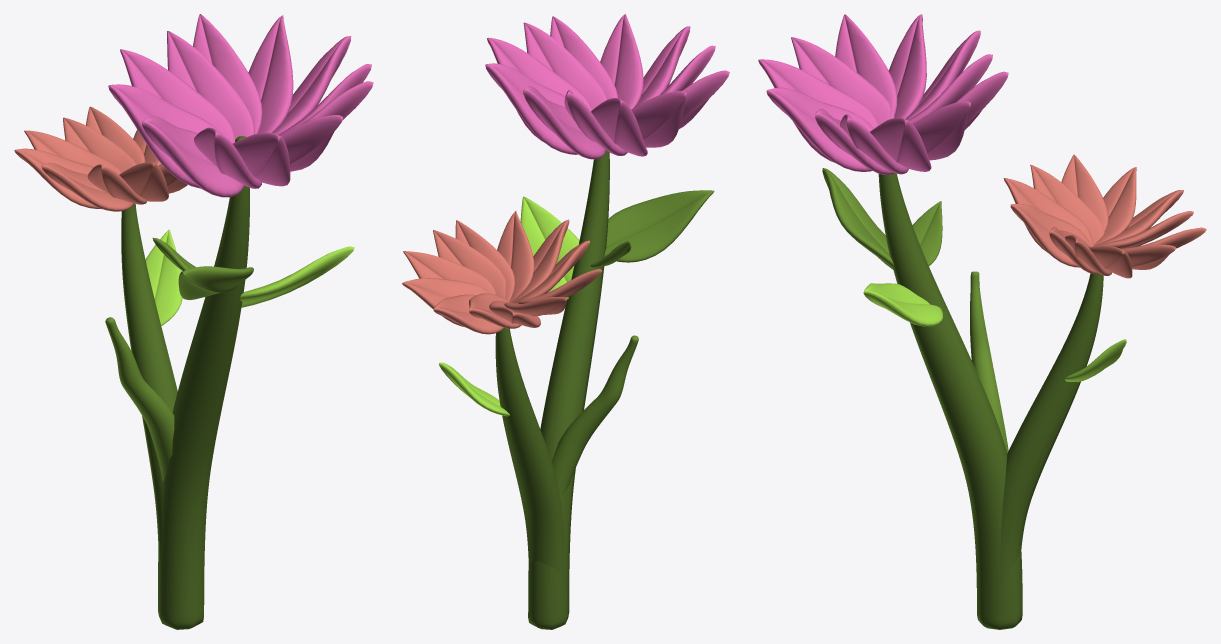
Rendered from Flower.fbx.
3 views of the same model, side by side, from view 1: azimuth 30°, elevation 25°; view 2: azimuth 150°, elevation 25°; view 3: azimuth 270°, elevation 25° (orthographic). The views are drawn at different scales.
Visible parts, largest first — view 1: flower; view 2: flower; view 3: flower.
Boxes of the visible parts, x1,y1,x2,y2 form: flower: (14,14,373,629); flower: (402,14,729,629); flower: (758,14,1206,629).
Size of the model in its own units: 175 by 243 by 102.
